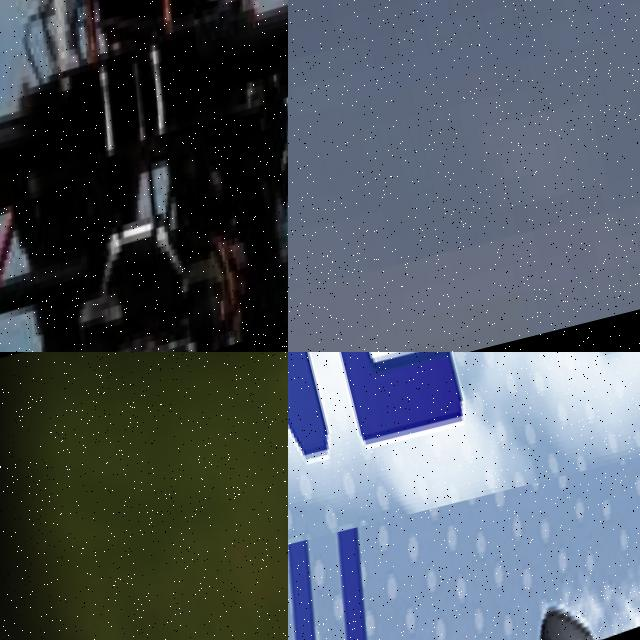drone: (0, 0, 288, 352), (288, 427, 640, 640)
